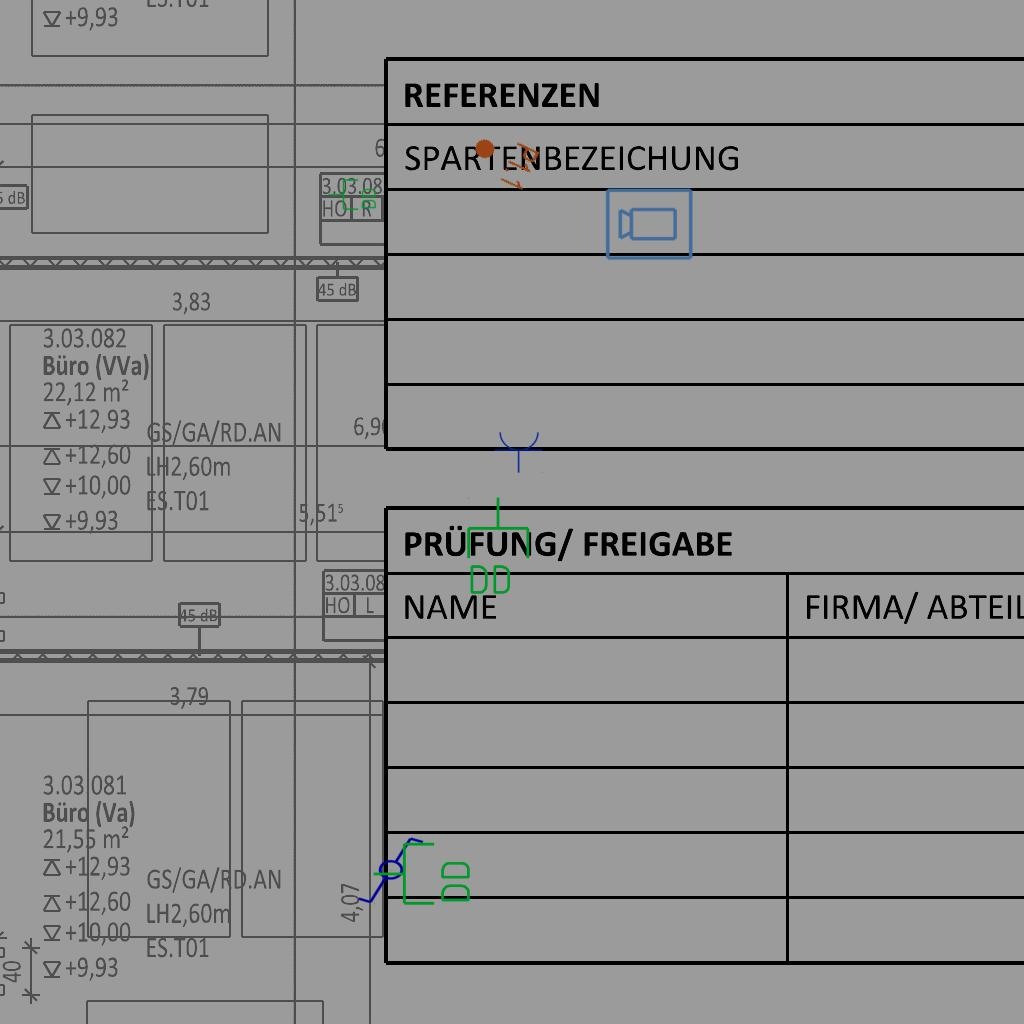Datenanschluss_zweifach: (463, 495, 532, 598), (371, 840, 474, 909), (327, 178, 378, 212)
Downlight_LED_Einbauleuchten_Flur: (464, 124, 542, 194)
KFO_Kamera_mit_Festobjektiv: (604, 185, 695, 262)
Schukosteckdose_einfach: (494, 430, 544, 473)
Wechselschalter: (356, 835, 434, 907)
